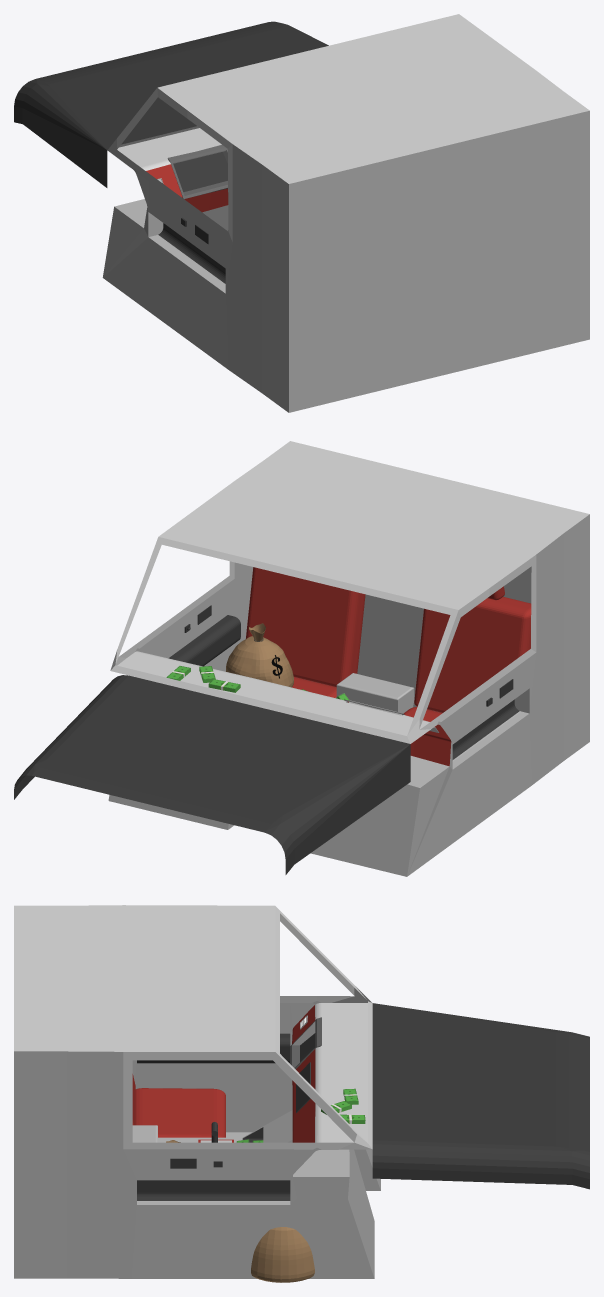
File: CarApplied.glb
The picture shows the model from 3 angles, top to bottom: view 1: azimuth 30°, elevation 25°; view 2: azimuth 150°, elevation 25°; view 3: azimuth 270°, elevation 25°; orthographic projection.
Visible parts, largest first — view 1: CarInterior; view 2: CarInterior, CarInterior.001; view 3: CarInterior.
Boxes of the visible parts, left/top/right/bottom form: CarInterior: left=14, top=14, right=589, bottom=412; CarInterior: left=14, top=441, right=589, bottom=876; CarInterior.001: left=226, top=623, right=293, bottom=687; CarInterior: left=14, top=905, right=589, bottom=1282.
Size of the model in its own units: 1.93 by 1.33 by 3.05.
Materials: 18 (4 with a texture image).
